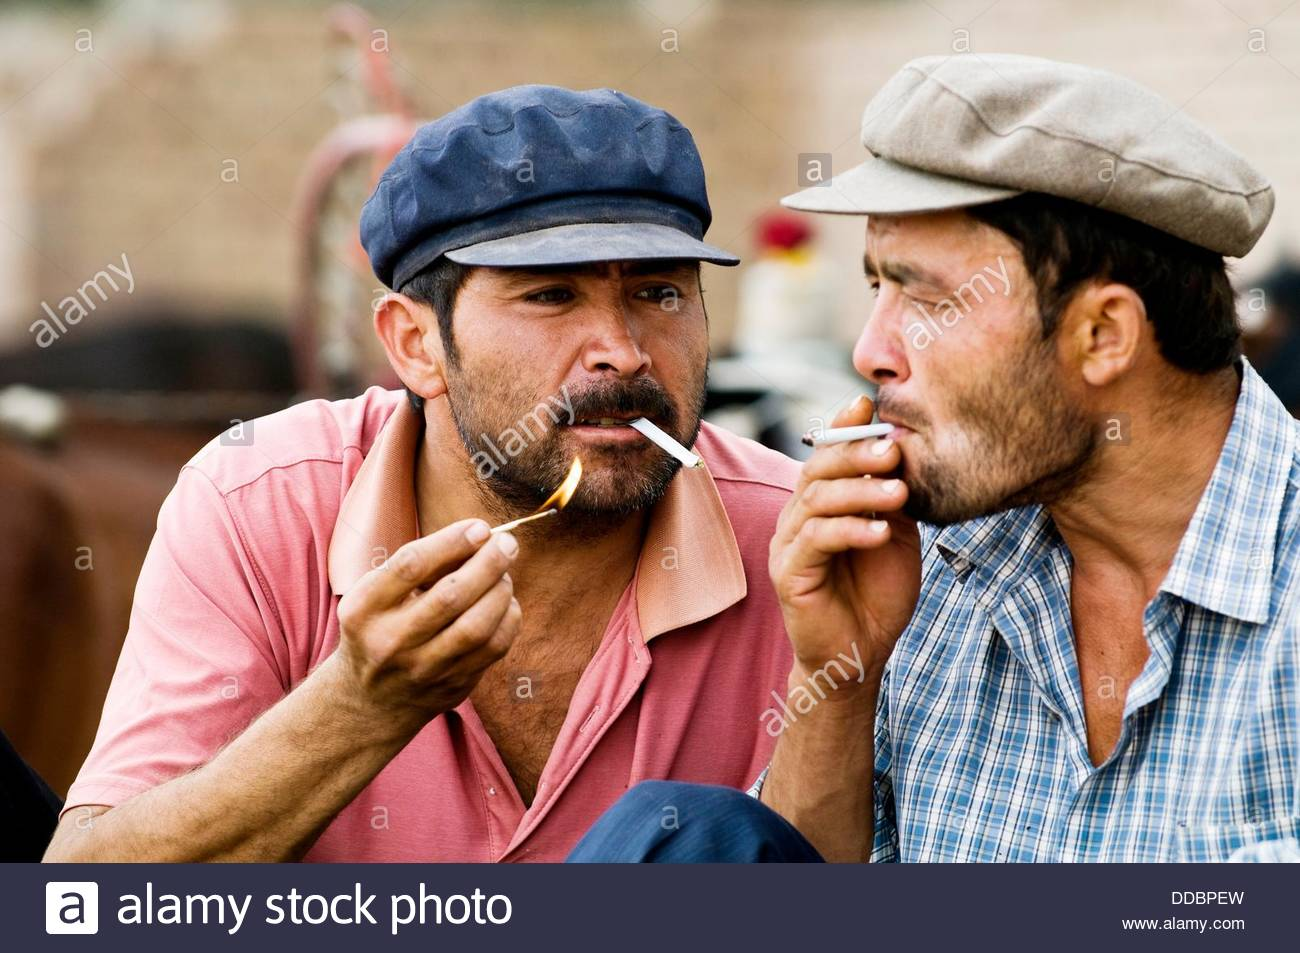cigarette: (617, 400, 715, 473), (801, 416, 909, 450)
